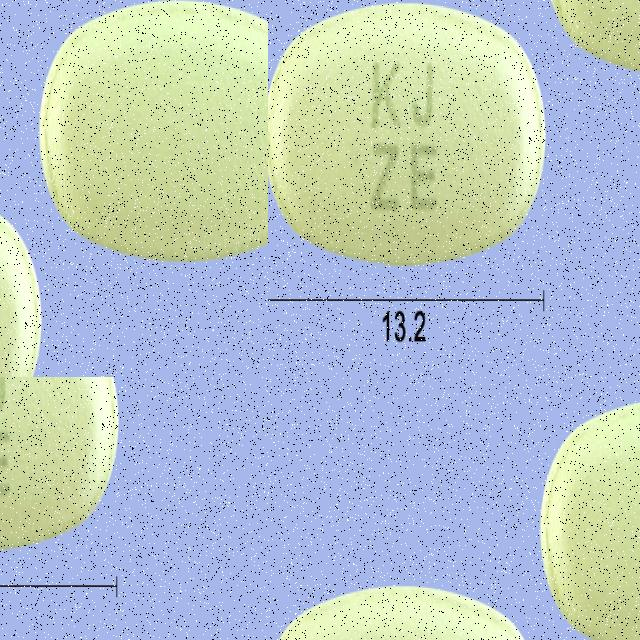Mabid -500mg: (268, 16, 554, 266)
Prodin Tab: (86, 119, 211, 349)
Rheumakin Tab: (0, 377, 130, 553)
Zeffix Tab: (540, 398, 640, 640), (268, 583, 543, 640)
